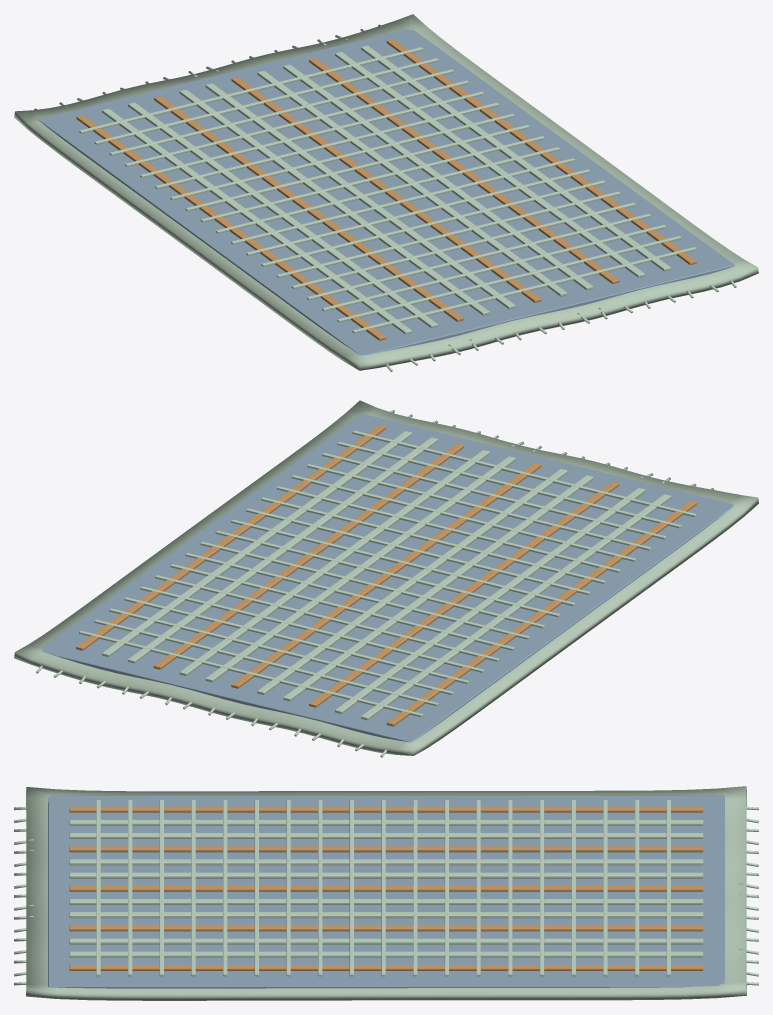
Rendered from tapete-ritmo.glb.
3 renders of one model, top to bottom at view 1: azimuth 30°, elevation 25°; view 2: azimuth 150°, elevation 25°; view 3: azimuth 270°, elevation 25°, orthographic. The views are drawn at different scales.
Parts seen in each view (by area): view 1: Rebordo tecido, Tapete com cantos levantados, Nervura da trama.004, Nervura da trama.008, Nervura da trama, Nervura da trama.005, Nervura da trama.001, Nervura da trama.003, Nervura da trama.010, Nervura da trama.009, Nervura da trama.011, Nervura da trama.007 (+22 smaller); view 2: Rebordo tecido, Tapete com cantos levantados, Nervura da trama, Nervura da trama.012, Nervura da trama.004, Nervura da trama.005, Nervura da trama.006, Nervura da trama.003, Nervura da trama.009, Nervura da trama.008, Nervura da trama.011, Nervura da trama.001 (+22 smaller); view 3: Rebordo tecido, Tapete com cantos levantados, Nervura da trama.003, Nervura da trama.006, Nervura da trama.008, Nervura da trama.011, Nervura da trama.001, Nervura da trama.004, Nervura da trama.009, Nervura da trama, Nervura da trama.005, Nervura da trama.010 (+22 smaller).
Part boxes in pixels (box(x1,y1,x2,y2)): Rebordo tecido: box(38, 29, 735, 355); Tapete com cantos levantados: box(14, 14, 758, 370); Nervura da trama.004: box(179, 89, 489, 315); Nervura da trama.008: box(283, 64, 593, 290); Nervura da trama: box(76, 115, 386, 340); Nervura da trama.005: box(205, 83, 515, 309); Nervura da trama.001: box(102, 108, 412, 334); Nervura da trama.003: box(154, 96, 463, 321); Nervura da trama.010: box(335, 52, 644, 277); Nervura da trama.009: box(309, 58, 619, 283); Nervura da trama.011: box(361, 45, 670, 271); Nervura da trama.007: box(257, 71, 567, 296); Rebordo tecido: box(41, 413, 733, 742); Tapete com cantos levantados: box(14, 400, 758, 755); Nervura da trama: box(386, 500, 696, 726); Nervura da trama.012: box(76, 424, 386, 650); Nervura da trama.004: box(283, 475, 593, 701); Nervura da trama.005: box(257, 469, 567, 694); Nervura da trama.006: box(231, 462, 541, 688); Nervura da trama.003: box(309, 481, 619, 707); Nervura da trama.009: box(153, 443, 463, 669); Nervura da trama.008: box(179, 450, 489, 675); Nervura da trama.011: box(102, 431, 412, 656); Nervura da trama.001: box(361, 494, 671, 720); Rebordo tecido: box(48, 795, 724, 988); Tapete com cantos levantados: box(26, 786, 746, 1000); Nervura da trama.003: box(69, 846, 703, 852); Nervura da trama.006: box(69, 885, 703, 891); Nervura da trama.008: box(69, 912, 703, 918); Nervura da trama.011: box(69, 951, 703, 957); Nervura da trama.001: box(69, 819, 703, 825); Nervura da trama.004: box(69, 859, 703, 865); Nervura da trama.009: box(69, 925, 703, 931); Nervura da trama: box(69, 806, 703, 812); Nervura da trama.005: box(69, 872, 703, 878); Nervura da trama.010: box(69, 938, 703, 944).
Bounding box in the file's own units: 1.21 × 0.0386 × 1.86.
